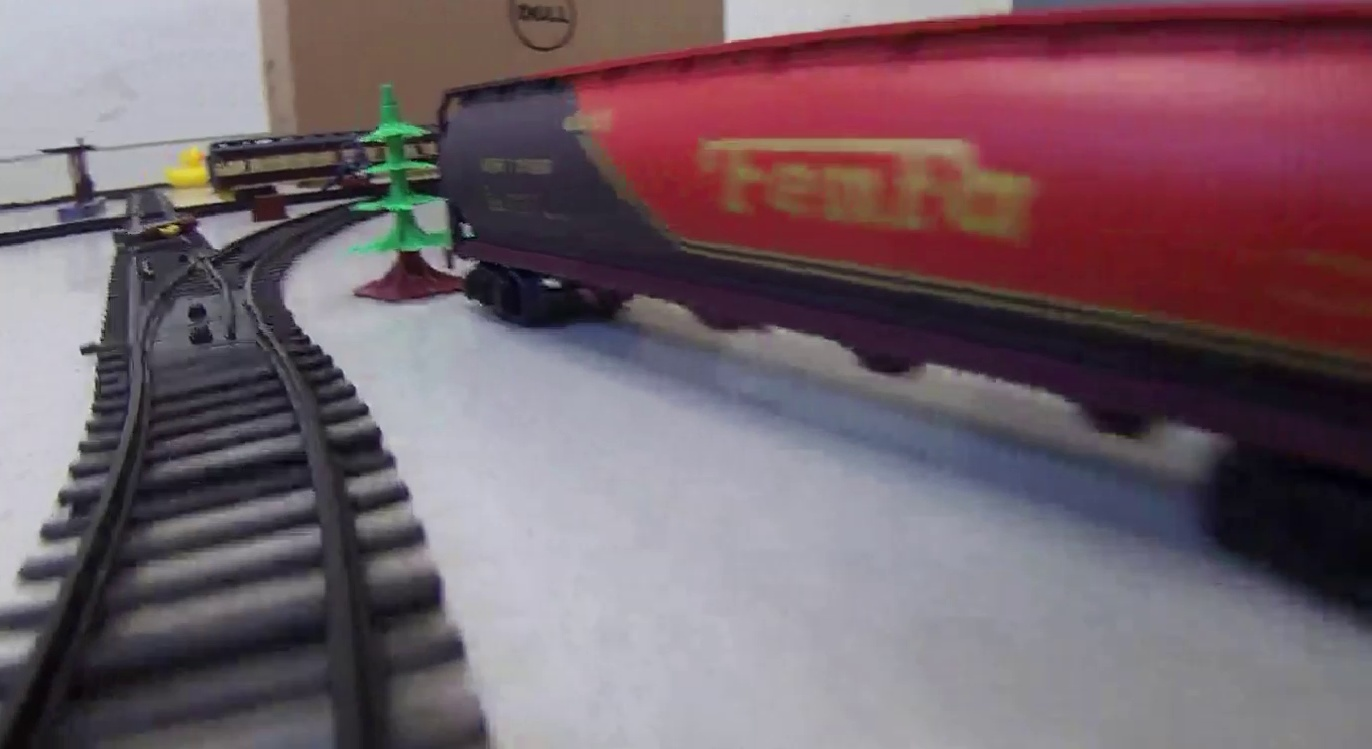tree: (349, 84, 448, 302)
